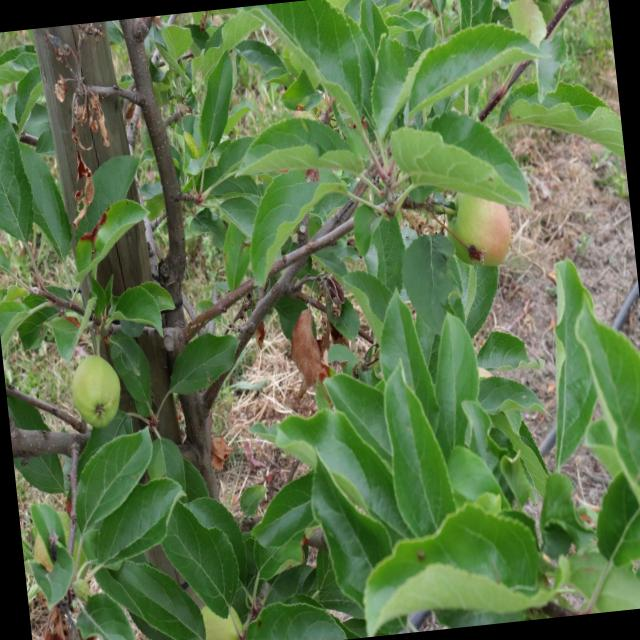-FireBlight-: (280, 296, 346, 390), (45, 68, 115, 134), (31, 603, 90, 640), (73, 138, 99, 220), (200, 428, 233, 479)
